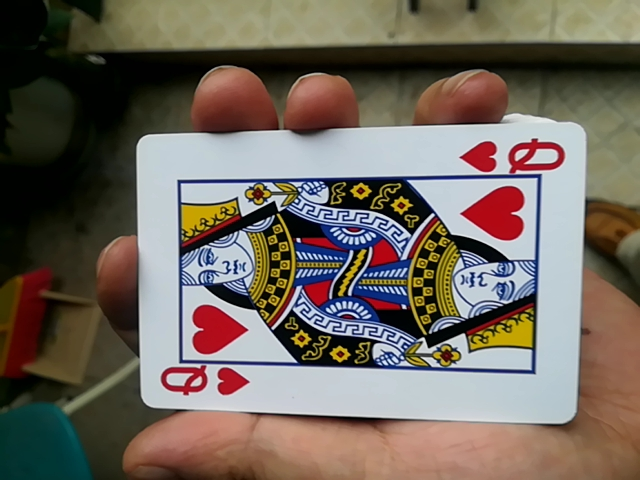hx q: (132, 117, 582, 431)
